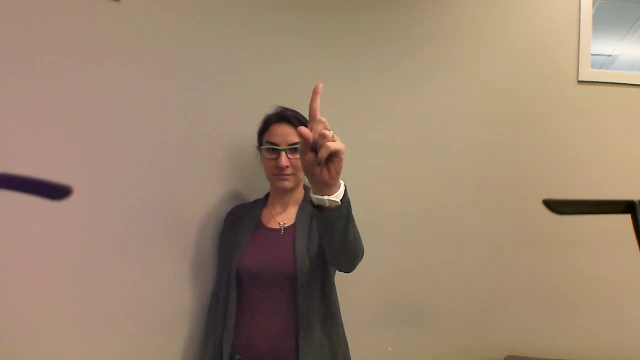up: (285, 79, 352, 200)
